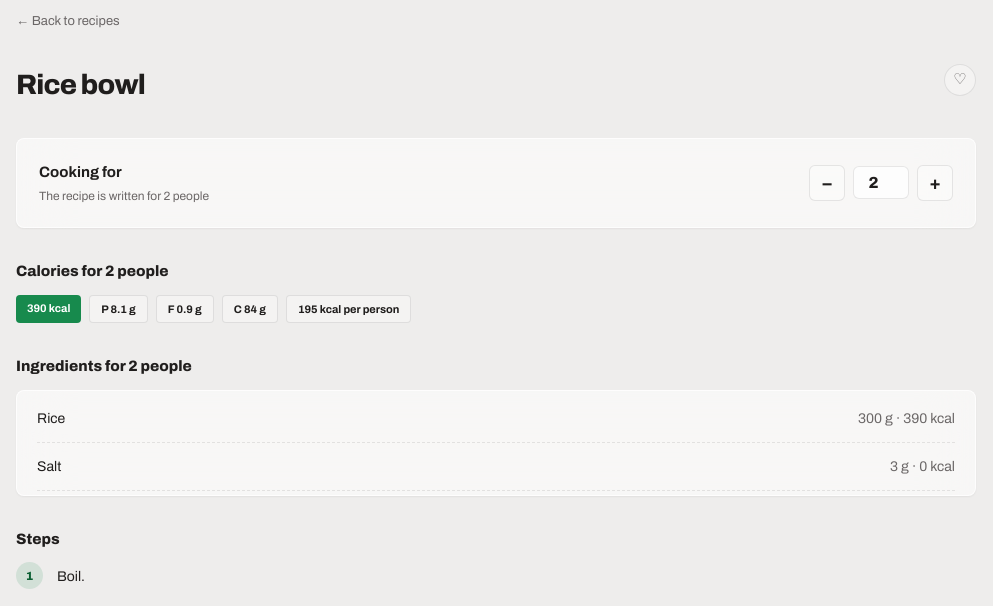
Scenario: recipe detail servings › starts at the author’s count and recalculates ingredients and calories
The image size is (993, 606).
Expected: the heading "Ingredients for 2 people" is shown, [16,358,192,374]
Expected: the text "The recipe is written for 2 people" is shown, [39,187,209,205]
Click the button named "More people" at [935, 183], box [917,165,953,201]
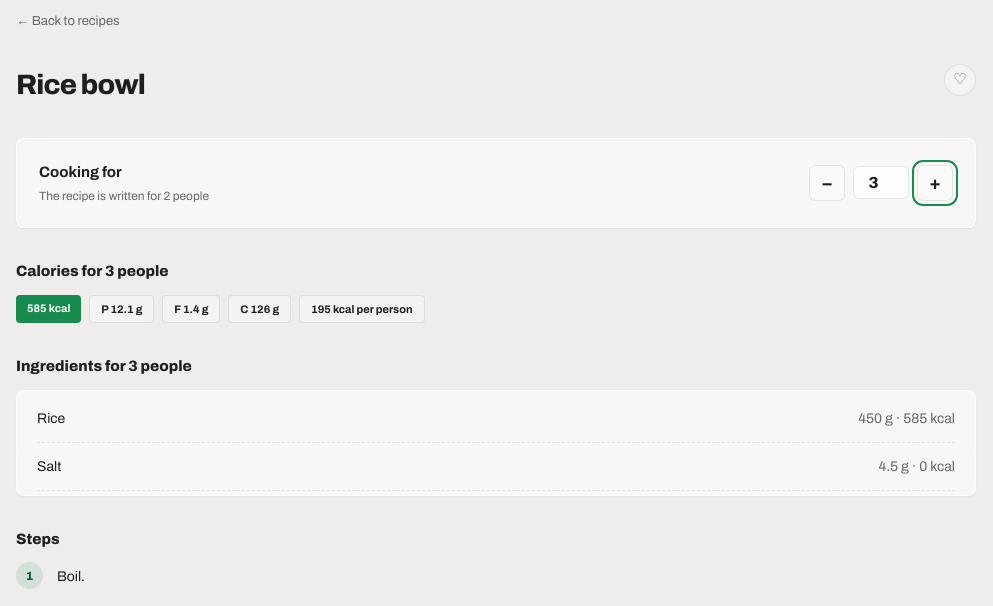
Click the button named "More people" at [935, 183], box [917,165,953,201]
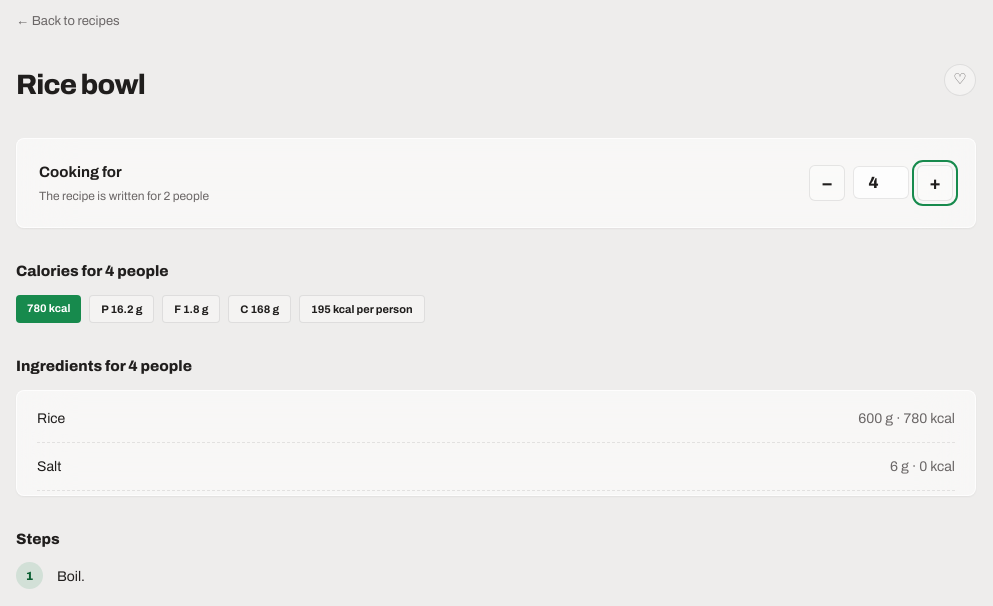
Expected: the heading "Ingredients for 4 people" is shown, [16,358,192,374]
Expected: the element with test id "ingredient-row" shows "600 g", [858,410,893,426]
Expected: the element with test id "ingredient-row" shows "6 g", [890,458,909,474]
Replace the text in the number field named "Servings" with "1" at [881, 183], box [853,166,909,199]
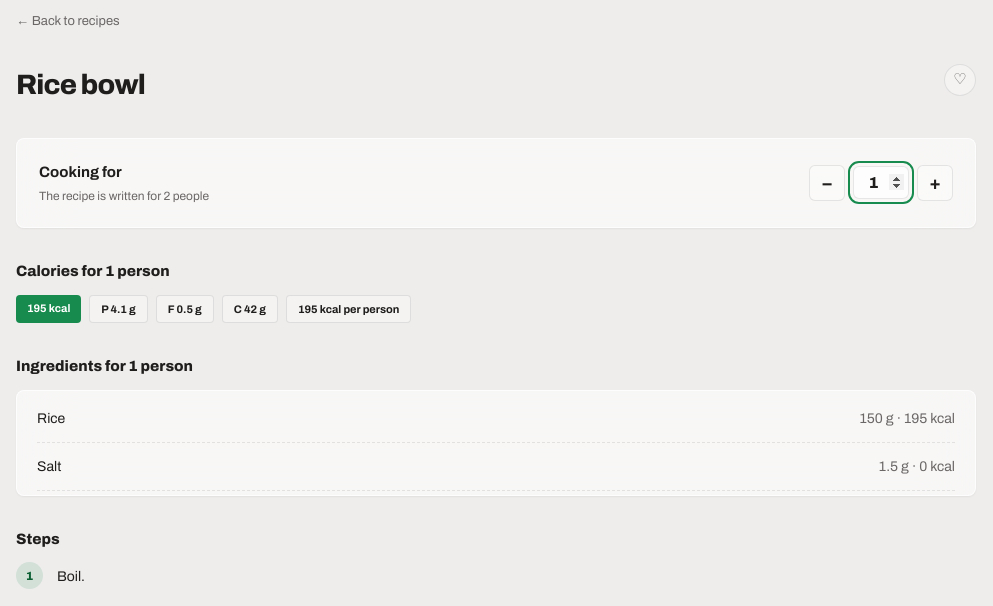
Expected: the button named "Fewer people" is disabled, [809,165,845,201]
Expected: the text "150 g · 195 kcal" is shown, [859,408,955,428]
